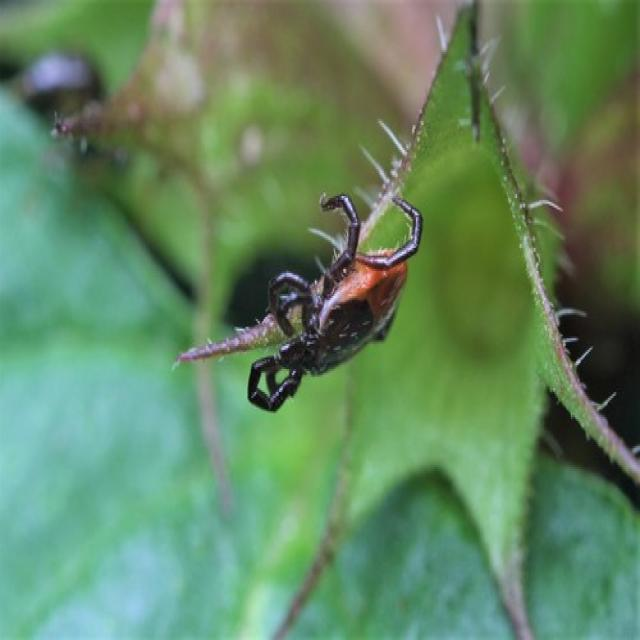Ixodes Ricinus-F: (247, 194, 422, 413)
